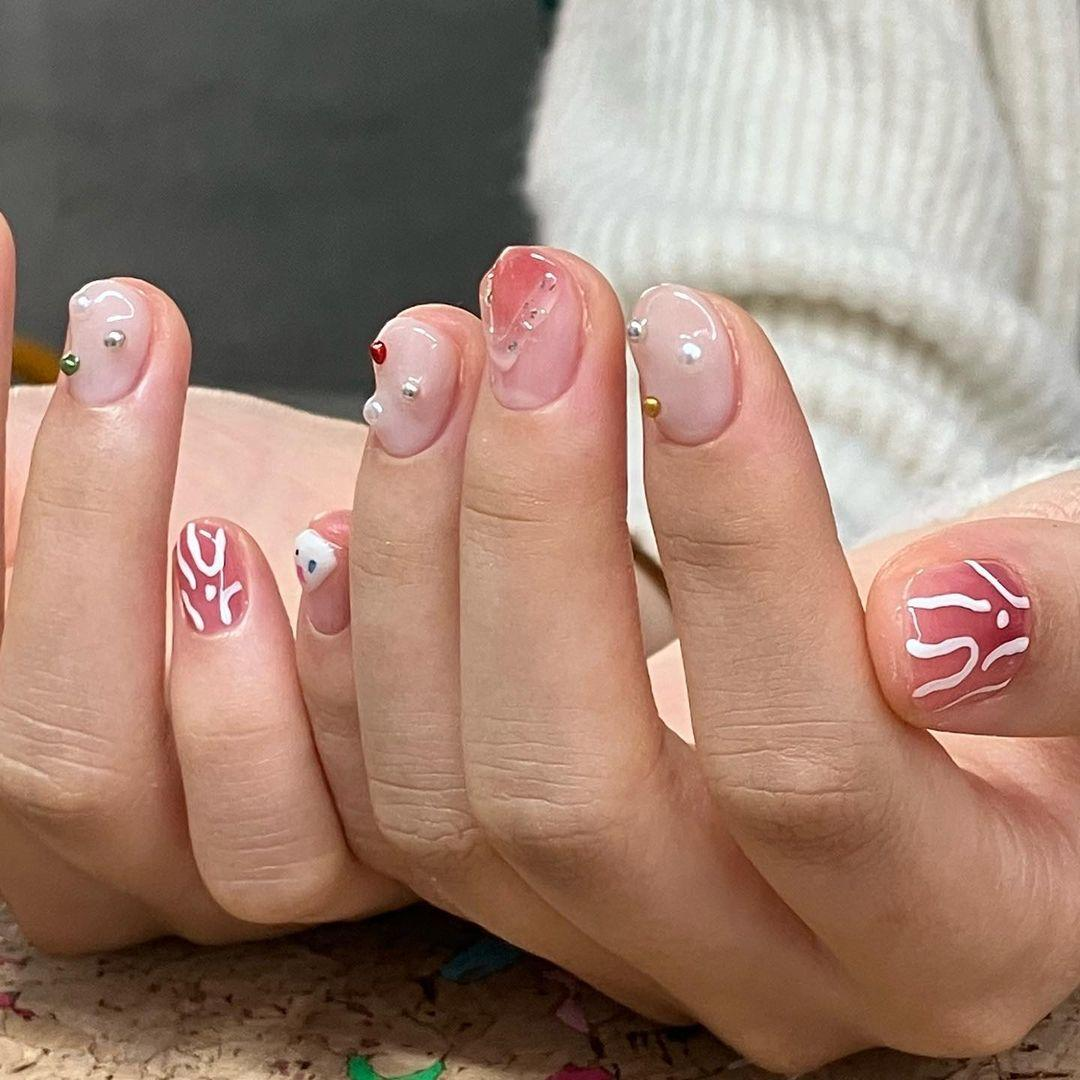nail: (899, 555, 1033, 714), (625, 280, 742, 445), (477, 244, 586, 410), (292, 507, 352, 636)
